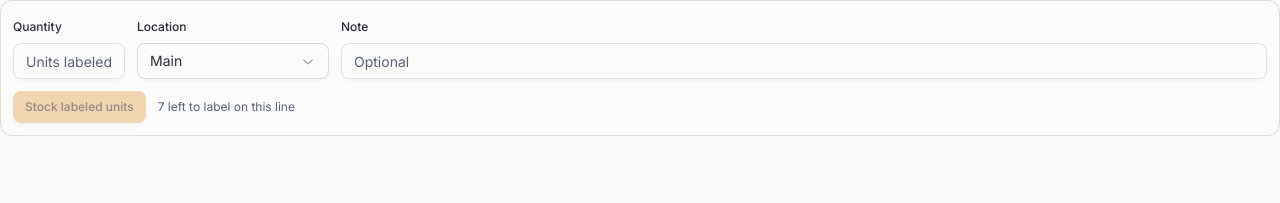
it: a refused batch › shows the server's sentence VERBATIM and never resubmits by itself
In the field labelled "Quantity": (69, 61) x1=13 y1=43 x2=125 y2=79, type "5"
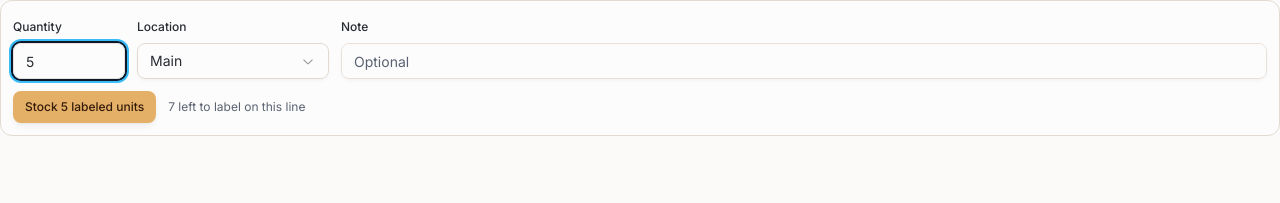
Click the button "Stock 5 labeled units": (85, 107) x1=13 y1=91 x2=156 y2=123
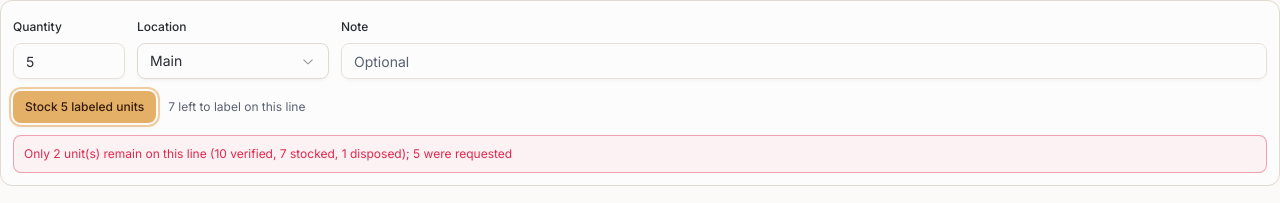
Check: the text "Only 2 unit(s) remain on this line (10 verified, 7 stocked, 1 disposed); 5 were requested" is shown, box x1=24 y1=146 x2=512 y2=161
